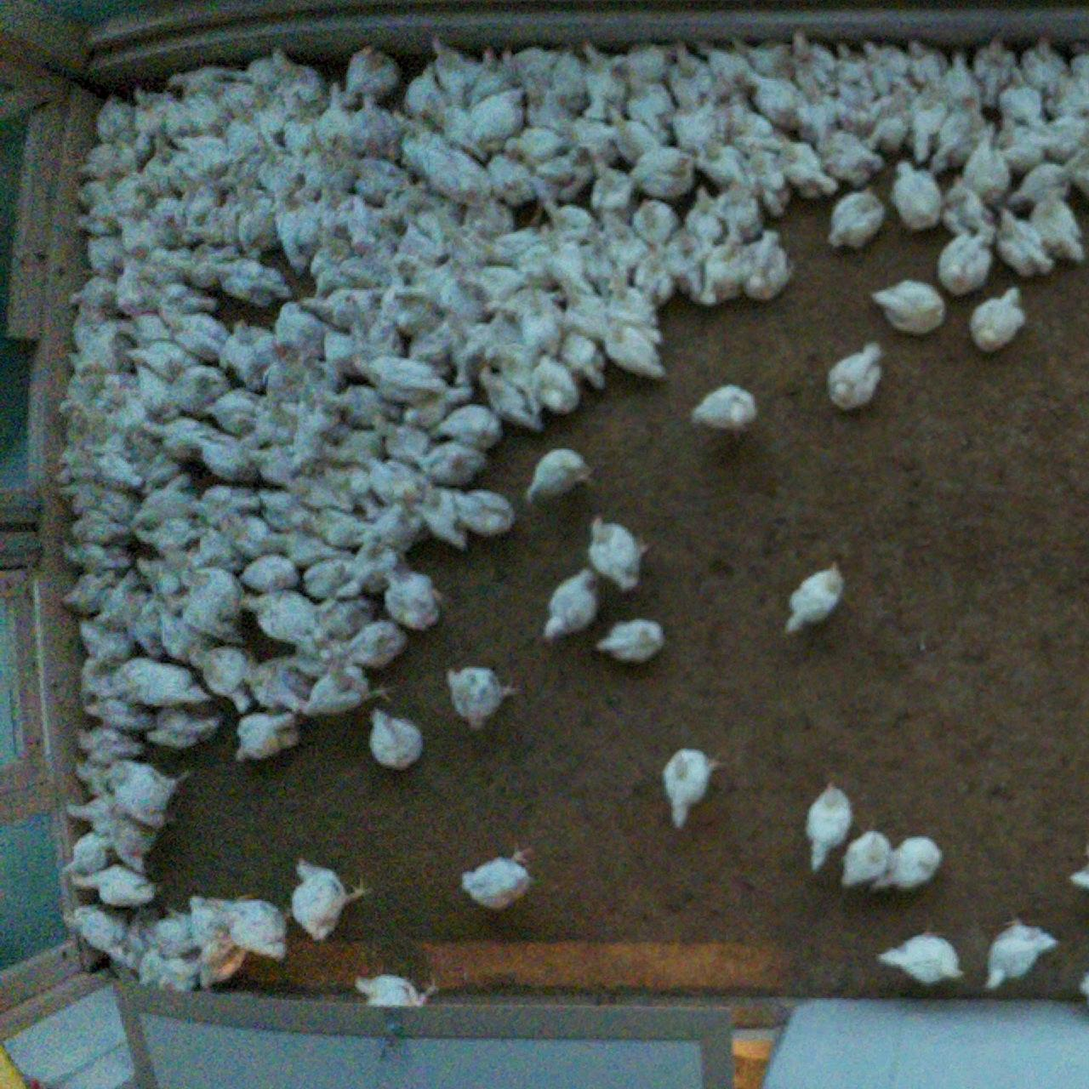chicken: (291, 847, 374, 952), (778, 551, 855, 646), (979, 902, 1056, 993), (259, 327, 353, 398), (470, 361, 552, 441), (875, 917, 963, 989), (801, 773, 862, 876), (659, 742, 724, 837), (348, 346, 445, 408), (455, 841, 539, 912), (584, 513, 659, 592), (866, 274, 952, 342), (596, 313, 677, 385), (111, 758, 194, 828), (297, 663, 402, 717), (185, 638, 260, 711), (217, 892, 292, 964), (822, 337, 891, 414), (538, 567, 601, 647), (265, 45, 332, 120), (91, 655, 200, 701), (442, 661, 513, 731), (362, 476, 428, 551), (393, 197, 462, 268), (525, 443, 597, 511), (868, 832, 943, 897), (574, 31, 628, 121), (219, 313, 286, 385), (361, 700, 426, 774), (379, 562, 447, 632), (812, 124, 887, 187), (995, 206, 1057, 281), (176, 566, 241, 637), (232, 705, 303, 768), (966, 280, 1024, 357), (471, 83, 532, 156), (690, 377, 762, 437), (67, 864, 165, 908), (938, 222, 993, 300), (168, 60, 261, 106), (149, 299, 228, 353), (330, 618, 412, 670), (928, 97, 984, 173), (597, 614, 674, 669), (449, 481, 519, 541), (512, 279, 563, 361), (417, 481, 474, 554), (135, 467, 204, 527), (269, 192, 322, 270), (891, 156, 946, 231), (206, 385, 281, 440), (240, 585, 316, 639), (425, 29, 482, 101), (275, 392, 332, 464), (372, 267, 436, 331), (822, 190, 884, 256), (245, 651, 312, 712), (316, 188, 388, 244), (773, 129, 833, 196), (966, 24, 1011, 113), (205, 255, 288, 303), (834, 824, 894, 890), (743, 228, 795, 303), (58, 898, 123, 958), (336, 40, 402, 99), (188, 930, 252, 990), (743, 138, 792, 216), (416, 433, 494, 482), (308, 81, 365, 148), (428, 98, 489, 160), (1028, 194, 1082, 264), (628, 141, 693, 199), (388, 111, 443, 179), (429, 138, 487, 202), (61, 311, 126, 368), (352, 963, 439, 1005), (80, 127, 156, 175), (968, 120, 1012, 202), (489, 220, 549, 280), (264, 295, 323, 356), (736, 66, 798, 124), (232, 192, 288, 256), (866, 80, 915, 153), (301, 283, 377, 330), (92, 572, 147, 636), (400, 383, 481, 426), (339, 542, 398, 601), (700, 233, 747, 307), (940, 175, 996, 237), (1016, 31, 1068, 97), (321, 153, 409, 192), (598, 260, 656, 319), (717, 92, 778, 148), (605, 36, 677, 83), (586, 151, 635, 220), (148, 595, 198, 662), (147, 706, 221, 751), (786, 22, 837, 87), (695, 127, 751, 186), (347, 90, 399, 153), (533, 144, 593, 198), (665, 37, 714, 102), (622, 73, 673, 135), (59, 563, 117, 617), (295, 502, 367, 545), (540, 50, 596, 105), (257, 138, 301, 208), (284, 467, 359, 508), (1006, 159, 1070, 207), (110, 810, 157, 875), (125, 334, 205, 372), (684, 180, 728, 249), (660, 93, 715, 148), (183, 513, 240, 566), (367, 453, 428, 502), (145, 278, 219, 318), (194, 429, 254, 478), (52, 536, 133, 572), (458, 304, 512, 358), (56, 830, 118, 877), (55, 358, 106, 415), (323, 416, 381, 466), (557, 326, 607, 384), (484, 154, 534, 211), (169, 363, 229, 410), (328, 385, 392, 429), (70, 724, 144, 762), (381, 402, 430, 459), (109, 915, 158, 972), (138, 910, 206, 951), (663, 226, 707, 289), (219, 501, 276, 549), (185, 476, 265, 510), (1030, 111, 1089, 157), (590, 202, 636, 261), (533, 356, 579, 415), (110, 303, 173, 346), (140, 410, 206, 451), (828, 38, 872, 99), (399, 59, 443, 120), (557, 276, 607, 329), (97, 371, 143, 428), (908, 87, 941, 166), (191, 885, 235, 944), (73, 618, 132, 662), (81, 694, 153, 730), (252, 484, 306, 532), (436, 403, 500, 443), (322, 587, 373, 637), (628, 197, 678, 248), (731, 34, 798, 72), (144, 949, 199, 995), (63, 792, 123, 834), (302, 552, 358, 597), (127, 362, 179, 410), (516, 71, 569, 118), (468, 44, 513, 99), (174, 129, 229, 174), (937, 47, 981, 103), (138, 237, 194, 281), (694, 38, 745, 86), (90, 449, 149, 490), (64, 269, 120, 312), (1001, 66, 1041, 126), (561, 113, 613, 158), (212, 154, 265, 198), (219, 106, 262, 160), (64, 507, 125, 545), (541, 196, 597, 237), (239, 546, 293, 588), (307, 234, 344, 295), (347, 309, 402, 350), (544, 240, 594, 285), (997, 113, 1039, 166), (637, 244, 673, 305), (440, 268, 483, 319), (186, 184, 224, 241), (831, 77, 877, 124), (137, 447, 183, 494), (504, 124, 564, 160), (128, 81, 172, 130), (721, 183, 763, 234), (605, 103, 647, 154), (127, 513, 188, 548), (79, 235, 131, 276), (74, 178, 115, 230), (251, 440, 300, 483), (445, 223, 495, 265), (68, 482, 126, 518), (793, 82, 830, 138), (900, 34, 942, 83), (380, 177, 425, 222), (345, 239, 391, 283), (294, 631, 341, 674), (290, 145, 329, 196), (414, 321, 469, 357), (171, 90, 223, 128), (116, 265, 152, 319), (54, 442, 98, 485), (140, 141, 185, 183), (511, 42, 551, 89), (146, 188, 185, 236), (471, 257, 516, 298), (113, 170, 152, 216), (127, 542, 191, 570), (133, 554, 181, 591), (462, 196, 514, 230), (91, 88, 124, 141), (250, 90, 291, 132), (1039, 83, 1089, 117), (93, 421, 143, 455), (270, 530, 335, 556), (862, 37, 907, 74), (168, 148, 214, 184), (211, 202, 245, 250), (117, 216, 153, 258), (55, 413, 97, 448), (186, 241, 219, 284), (278, 113, 313, 151), (73, 758, 114, 787), (1063, 145, 1089, 190), (1061, 42, 1089, 80)
